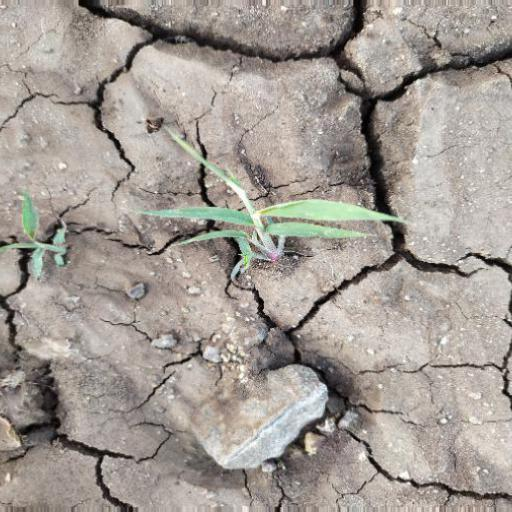weed: (122, 127, 418, 300)
